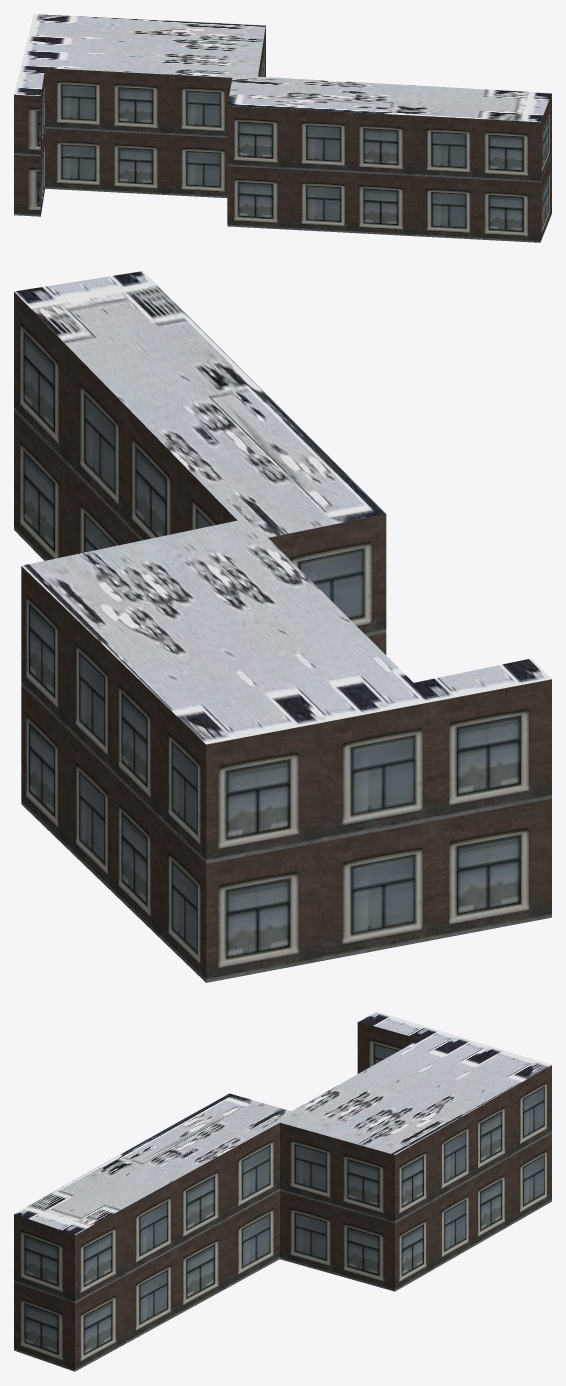
The model's file is ResTex__3786.fbx.
The picture shows the model from 3 angles, top to bottom: view 1: azimuth 30°, elevation 25°; view 2: azimuth 150°, elevation 25°; view 3: azimuth 270°, elevation 25°; orthographic projection. The views are drawn at different scales.
Parts seen in each view (by area): view 1: CityEngineMaterial_16_m, CityEngineMaterial_15_m; view 2: CityEngineMaterial_16_m, CityEngineMaterial_15_m; view 3: CityEngineMaterial_16_m, CityEngineMaterial_15_m.
Part boxes in pixels (left/top/right/bottom): CityEngineMaterial_16_m: left=14, top=25, right=551, bottom=242; CityEngineMaterial_15_m: left=14, top=14, right=551, bottom=122; CityEngineMaterial_16_m: left=14, top=292, right=551, bottom=982; CityEngineMaterial_15_m: left=14, top=271, right=551, bottom=744; CityEngineMaterial_16_m: left=14, top=1021, right=551, bottom=1371; CityEngineMaterial_15_m: left=14, top=1011, right=551, bottom=1234.
Size of the model in its own units: 21.1 by 6 by 21.42.
Materials: 2 (2 with a texture image).
